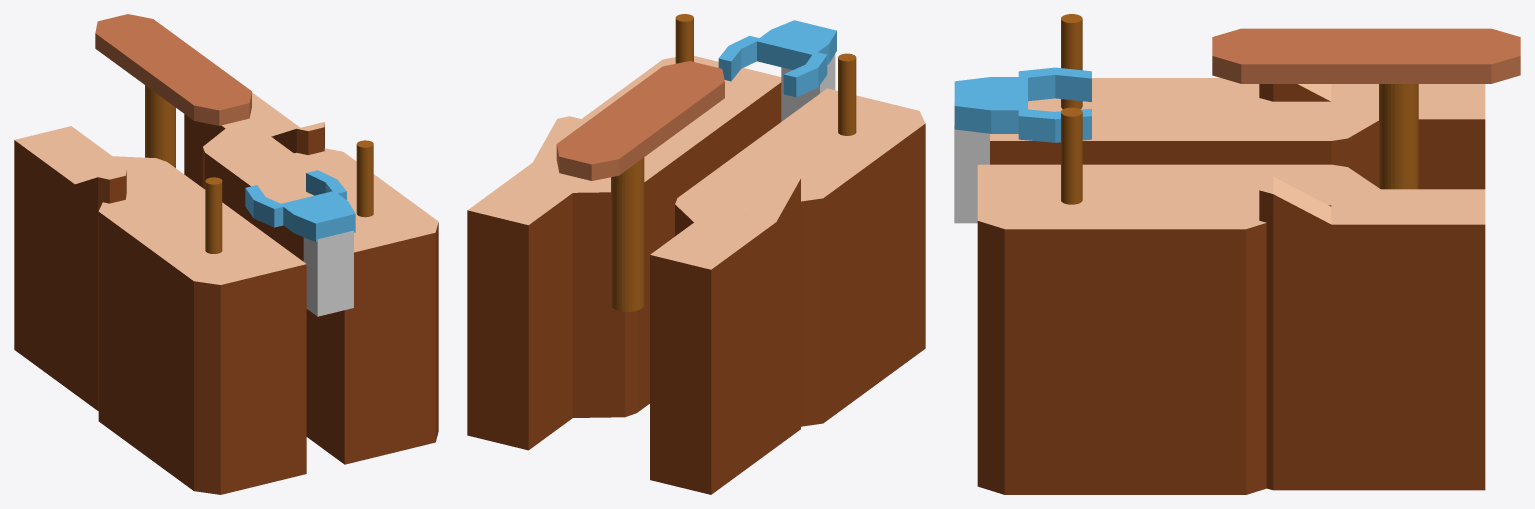
File: Test Level Anim 2 Unity.fbx
The picture shows the model from 3 angles, left to right: view 1: azimuth 30°, elevation 25°; view 2: azimuth 150°, elevation 25°; view 3: azimuth 270°, elevation 25°; orthographic projection. The views are drawn at different scales.
Parts seen in each view (by area): view 1: Cube.007, Cube.008, Cube.005, Cube.028, Cube.006, Cube.011, Cube.003, Cylinder.003, Cylinder.005, Cylinder.004, Cube.023, Cube.024; view 2: Cube.007, Cube.005, Cube.006, Cube.008, Cube.028, Cylinder.003, Cube.003, Cylinder.005, Cube.023, Cube.024, Cube.011, Cylinder.004; view 3: Cube.008, Cube.006, Cube.007, Cube.028, Cube.005, Cylinder.003, Cube.003, Cube.011, Cylinder.004, Cube.023, Cube.024, Cylinder.005.
Part boxes in pixels (x1=…): Cube.007: x1=98, y1=162, x2=306, y2=494; Cube.008: x1=205, y1=136, x2=438, y2=464; Cube.005: x1=14, y1=126, x2=166, y2=410; Cube.028: x1=95, y1=14, x2=251, y2=125; Cube.006: x1=184, y1=92, x2=324, y2=189; Cube.011: x1=303, y1=230, x2=353, y2=316; Cube.003: x1=280, y1=191, x2=355, y2=241; Cylinder.003: x1=145, y1=85, x2=175, y2=167; Cylinder.005: x1=205, y1=177, x2=222, y2=253; Cylinder.004: x1=356, y1=140, x2=373, y2=217; Cube.023: x1=245, y1=185, x2=283, y2=227; Cube.024: x1=306, y1=170, x2=346, y2=199; Cube.007: x1=678, y1=88, x2=925, y2=426; Cube.005: x1=650, y1=168, x2=800, y2=494; Cube.006: x1=467, y1=116, x2=636, y2=450; Cube.008: x1=582, y1=56, x2=781, y2=412; Cube.028: x1=556, y1=61, x2=724, y2=180; Cylinder.003: x1=611, y1=157, x2=644, y2=311; Cube.003: x1=757, y1=20, x2=836, y2=69; Cylinder.005: x1=838, y1=53, x2=856, y2=135; Cube.023: x1=783, y1=51, x2=827, y2=97; Cube.024: x1=718, y1=35, x2=761, y2=81; Cube.011: x1=781, y1=54, x2=835, y2=121; Cylinder.004: x1=675, y1=14, x2=693, y2=63; Cube.008: x1=977, y1=164, x2=1331, y2=494; Cube.006: x1=1259, y1=164, x2=1485, y2=490; Cube.007: x1=990, y1=78, x2=1331, y2=164; Cube.028: x1=1212, y1=28, x2=1520, y2=83; Cube.005: x1=1259, y1=84, x2=1485, y2=189; Cylinder.003: x1=1379, y1=84, x2=1418, y2=189; Cube.003: x1=954, y1=77, x2=1027, y2=133; Cube.011: x1=954, y1=103, x2=989, y2=223; Cylinder.004: x1=1061, y1=107, x2=1082, y2=204; Cube.023: x1=1018, y1=67, x2=1091, y2=101; Cube.024: x1=1018, y1=108, x2=1091, y2=142; Cylinder.005: x1=1061, y1=14, x2=1082, y2=109.
Size of the model in its own units: 3315 by 3811 by 5242.
